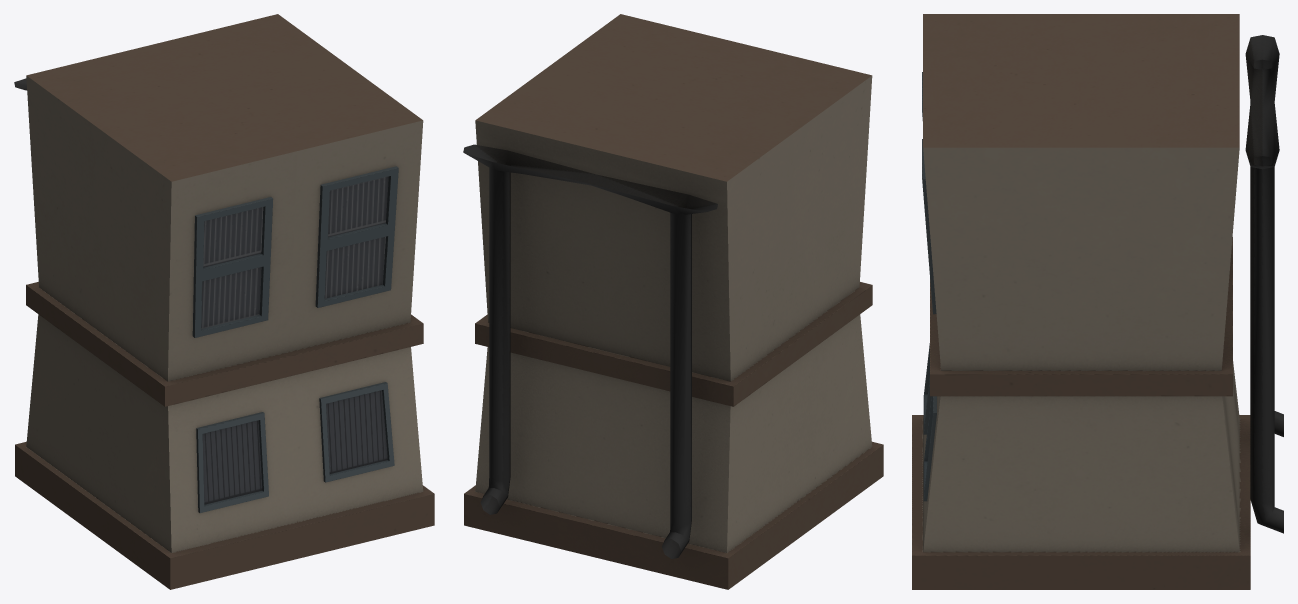
File: Block2.fbx
3 renders of one model, left to right at view 1: azimuth 30°, elevation 25°; view 2: azimuth 150°, elevation 25°; view 3: azimuth 270°, elevation 25°, orthographic. The views are drawn at different scales.
Parts seen in each view (by area): view 1: Cube.001; view 2: Cube.001; view 3: Cube.001.
Boxes of the visible parts, x1,y1,x2,y2 form: Cube.001: (14,14,434,589); Cube.001: (463,14,883,589); Cube.001: (912,14,1283,589).
Bounding box in the file's own units: 1166 × 1697 × 1303.
